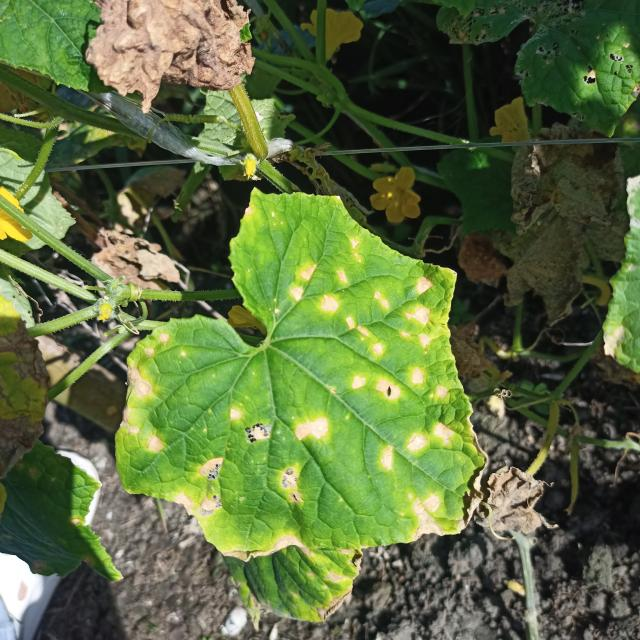disease_cucumber: (123, 229, 474, 548)
